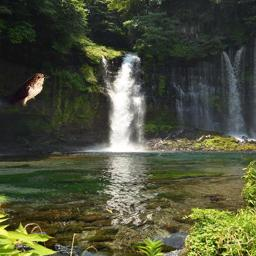Cuckoo: (4, 73, 50, 106)
